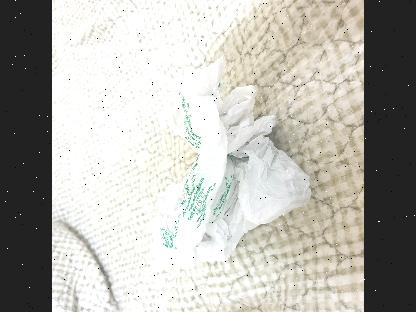Others: (150, 54, 314, 268)
